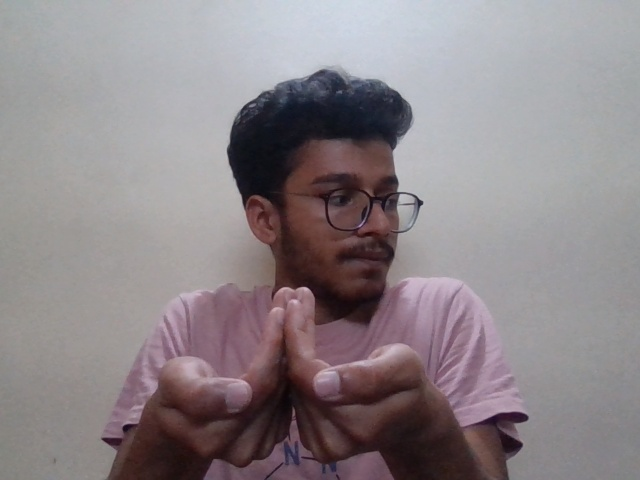tomorrow: (160, 284, 443, 462)
